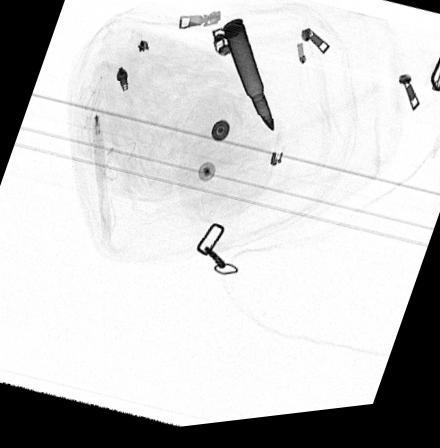Bullet: (221, 25, 275, 139)
